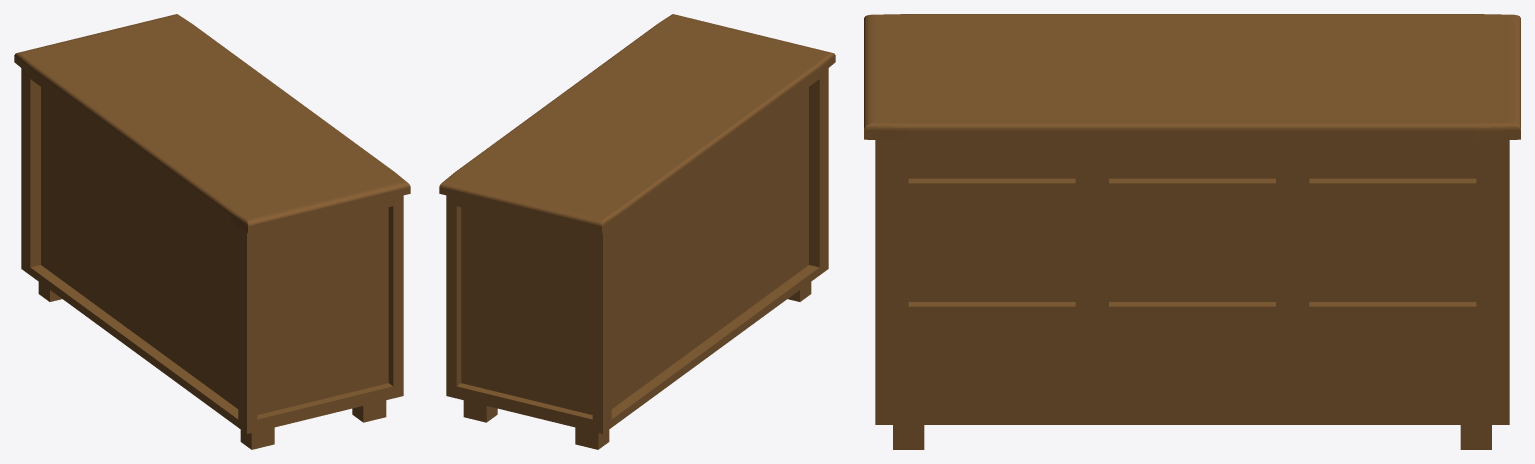
The model's file is Counter.fbx.
3 views of the same model, side by side, from view 1: azimuth 30°, elevation 25°; view 2: azimuth 150°, elevation 25°; view 3: azimuth 270°, elevation 25° (orthographic). The views are drawn at different scales.
Parts seen in each view (by area): view 1: Cube; view 2: Cube; view 3: Cube.
Part boxes in pixels (x1,y1,x2,y2): Cube: (14, 14, 410, 449); Cube: (439, 14, 835, 449); Cube: (864, 14, 1520, 449).
Bounding box in the file's own units: 42.85 × 58.28 × 104.
